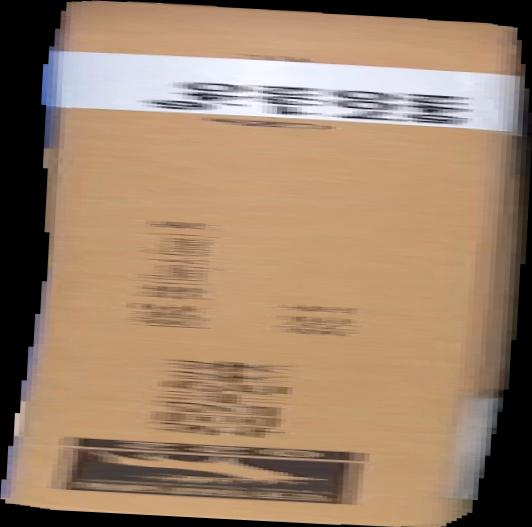reverse: (1, 1, 532, 527)
